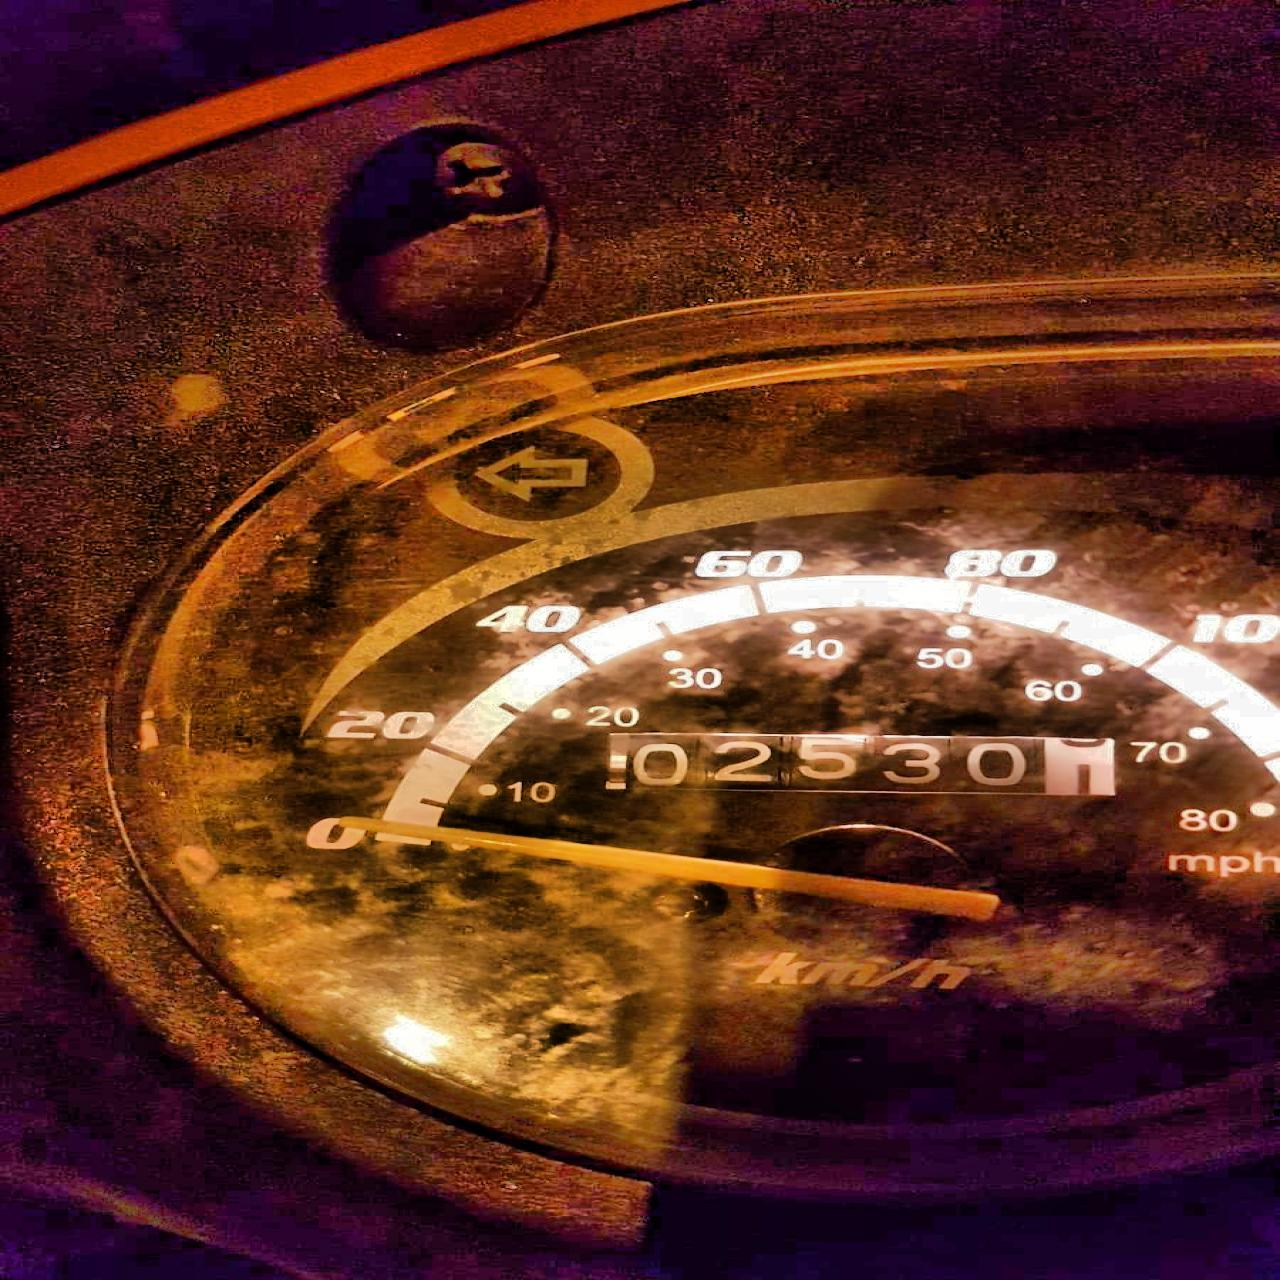0: (961, 740, 1030, 787), (628, 742, 692, 788)
1: (1054, 753, 1104, 797)
2: (710, 740, 778, 784)
3: (878, 737, 940, 784)
5: (797, 735, 860, 782)
odometer: (605, 729, 1128, 803)
